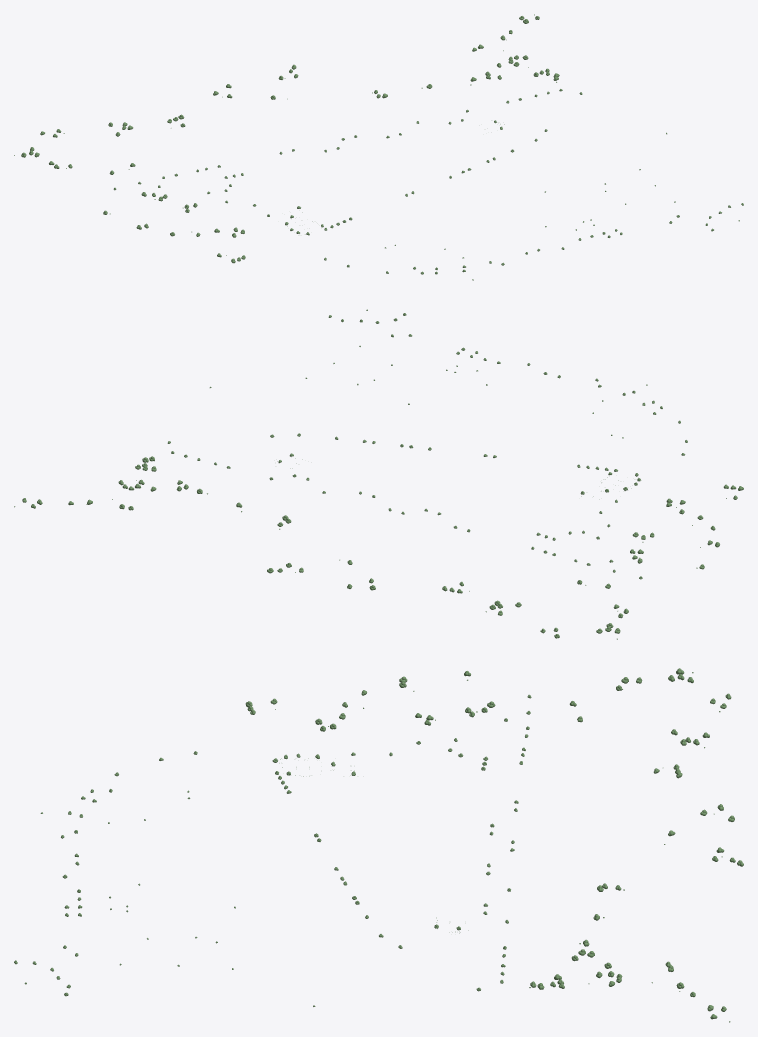
File: SM_GHSPark_TreesDark.fbx
3 views of the same model, one above another, from view 1: azimuth 30°, elevation 25°; view 2: azimuth 150°, elevation 25°; view 3: azimuth 270°, elevation 25° (orthographic). The views are drawn at different scales.
Parts seen in each view (by area): view 1: SM_GHSPark_TreesDark; view 2: SM_GHSPark_TreesDark; view 3: SM_GHSPark_TreesDark.
Part boxes in pixels (x1,y1,x2,y2): SM_GHSPark_TreesDark: (14, 14, 743, 280); SM_GHSPark_TreesDark: (14, 309, 743, 639); SM_GHSPark_TreesDark: (14, 668, 743, 1022).
Size of the model in its own units: 105221 by 92784 by 1046.
